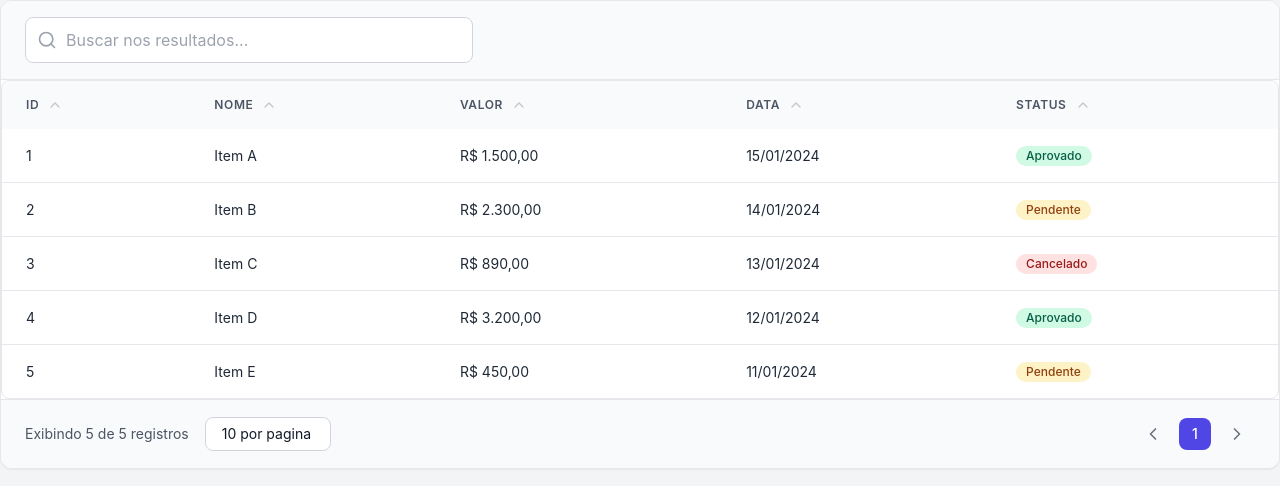
Test: DataTable › Sorting › should sort numeric columns correctly
The width and height of the screenshot is (1280, 486).
Click the column heading "ID".
click(33, 104)  # box [2,81,190,129]
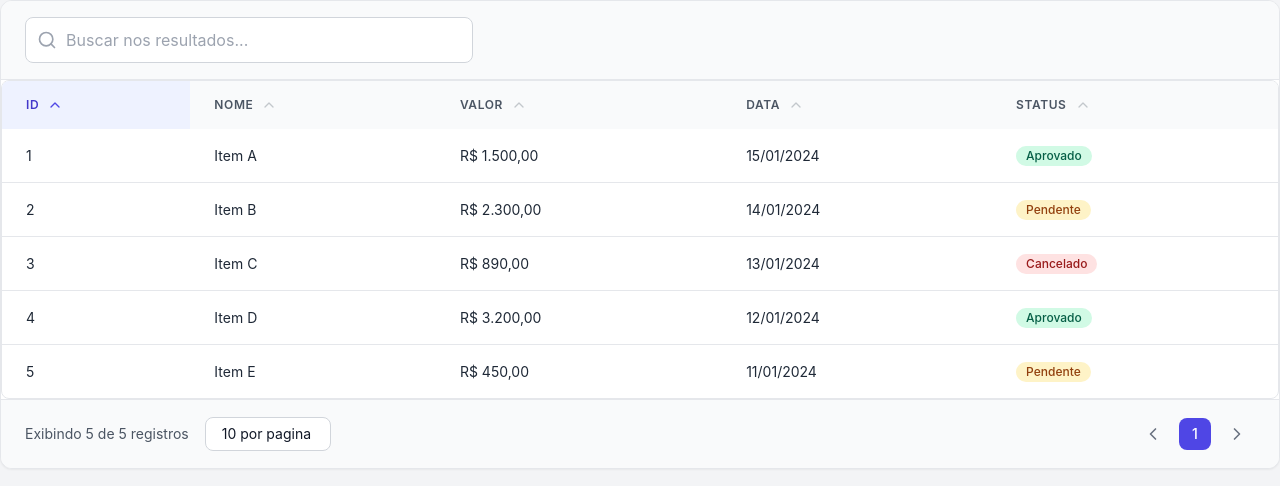
Click the column heading "ID".
click(96, 105)  # box [2,81,190,129]
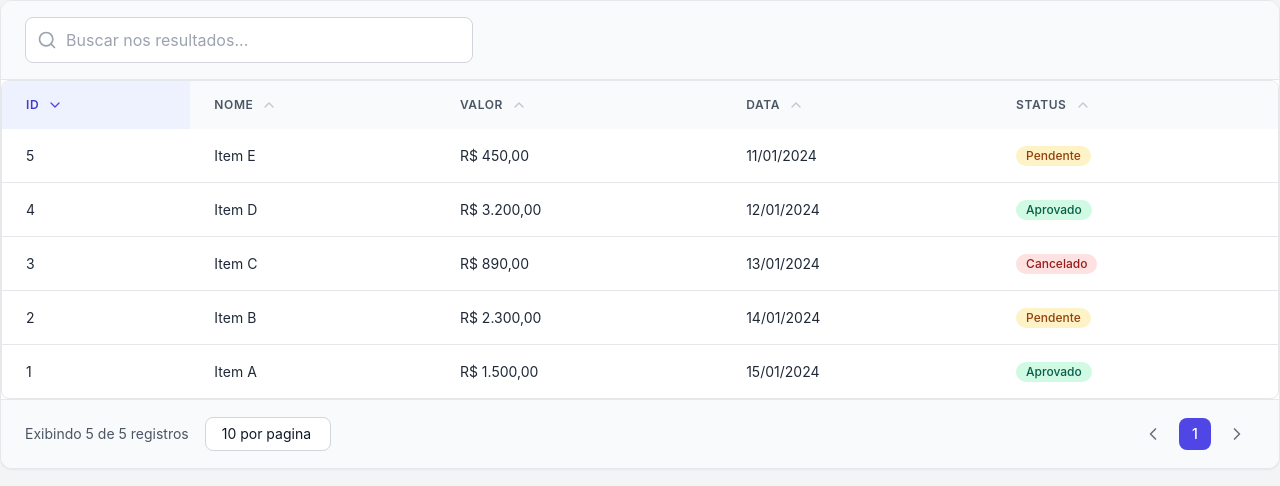
Now the cell "5" is shown, box [2,129,190,182]
